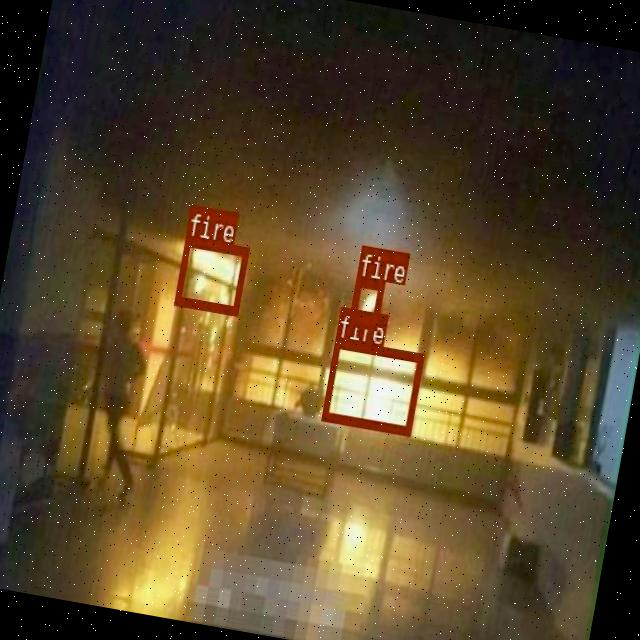fire: (321, 338, 422, 434), (172, 236, 248, 314), (348, 274, 384, 328)
